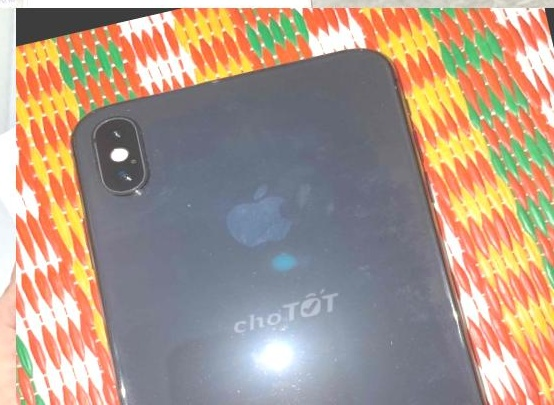scratch: (123, 288, 512, 405), (258, 244, 340, 300), (184, 235, 239, 289), (135, 123, 165, 188), (219, 276, 268, 311), (88, 96, 140, 126), (194, 69, 235, 96), (246, 263, 272, 283), (175, 198, 196, 217)
